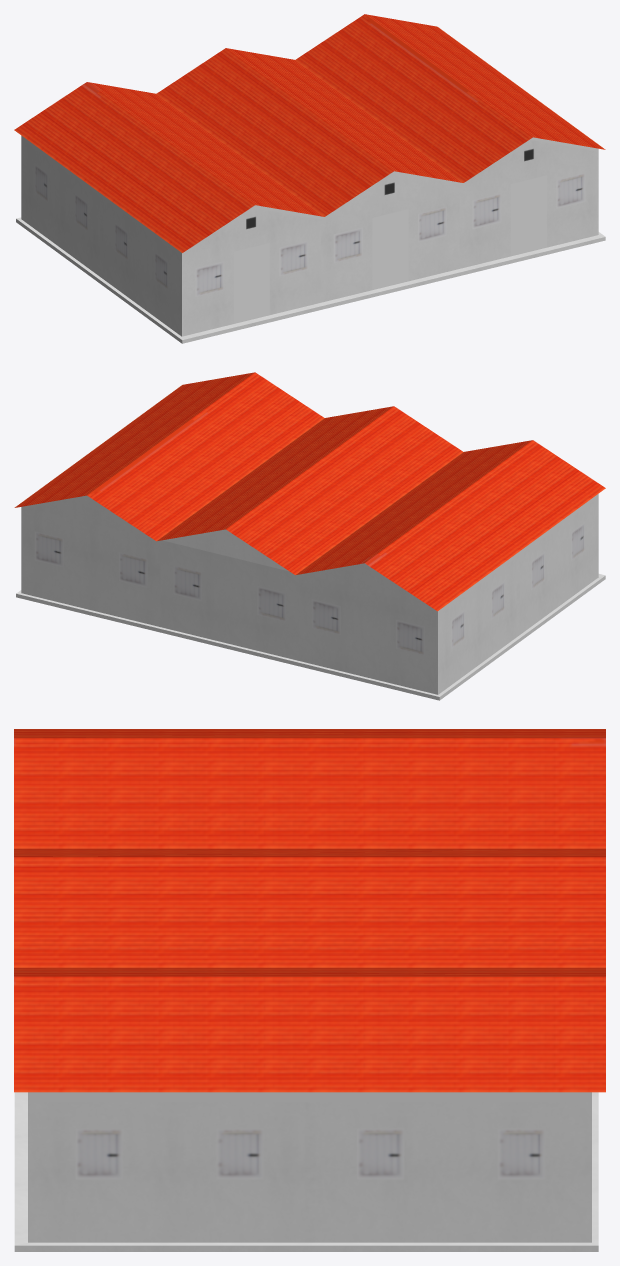
The model's file is House_LOD_1.fbx.
3 views of the same model, one above another, from view 1: azimuth 30°, elevation 25°; view 2: azimuth 150°, elevation 25°; view 3: azimuth 270°, elevation 25° (orthographic). The views are drawn at different scales.
Visible parts, largest first — view 1: Cube; view 2: Cube; view 3: Cube.
Boxes of the visible parts, x1,y1,x2,y2 form: Cube: (14,14,605,343); Cube: (14,372,605,700); Cube: (14,729,605,1251).
Bounding box in the file's own units: 1220 × 333 × 840.
